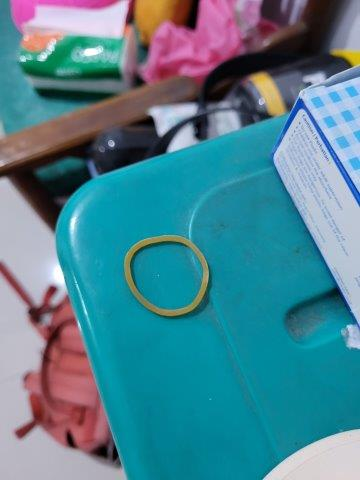karet: (124, 234, 212, 319)
